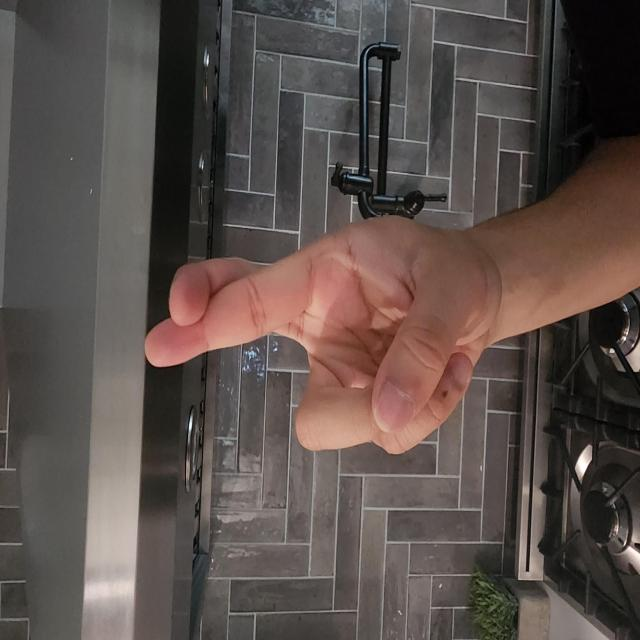R: (136, 183, 326, 640)
